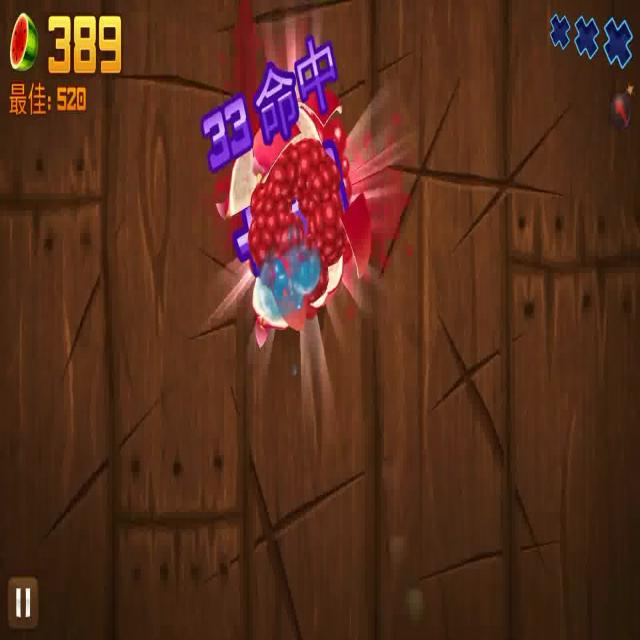fruit: (266, 178, 304, 250)
